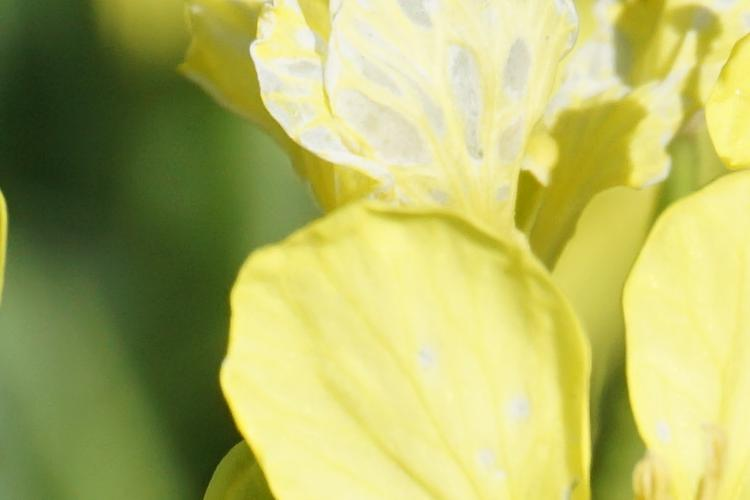yellow: (173, 6, 750, 499)
